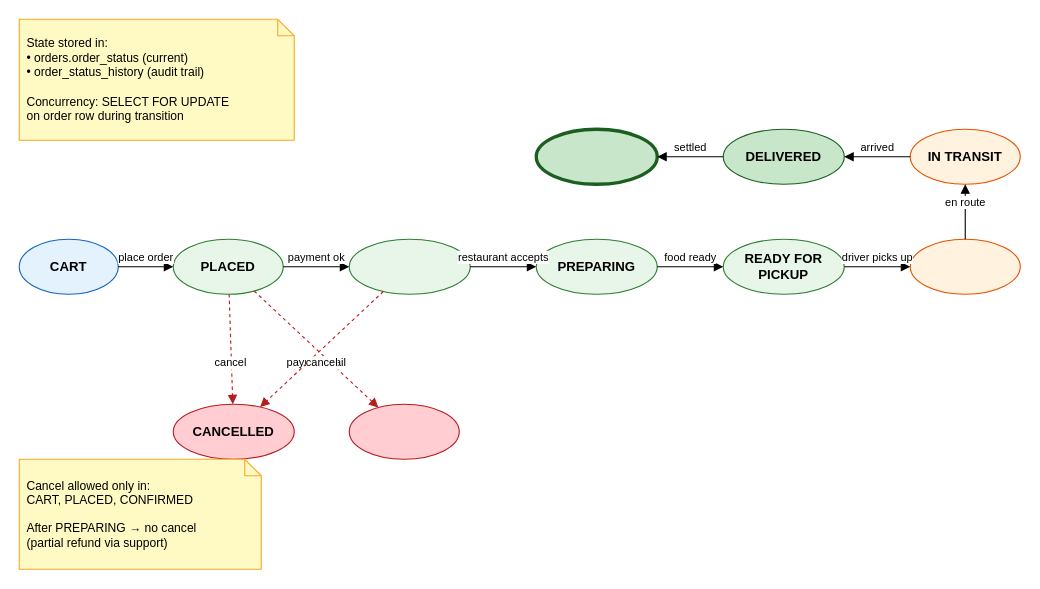
The diagram is 1040 pixels wide and 589 high, and some of its shapes have lost their labels. Each missing label, with the centre of its shape:
"COMPLETED" belongs at point 596,156.
"CONFIRMED" belongs at point 409,266.
"FAILED" belongs at point 403,431.
"PICKED UP" belongs at point 964,266.
